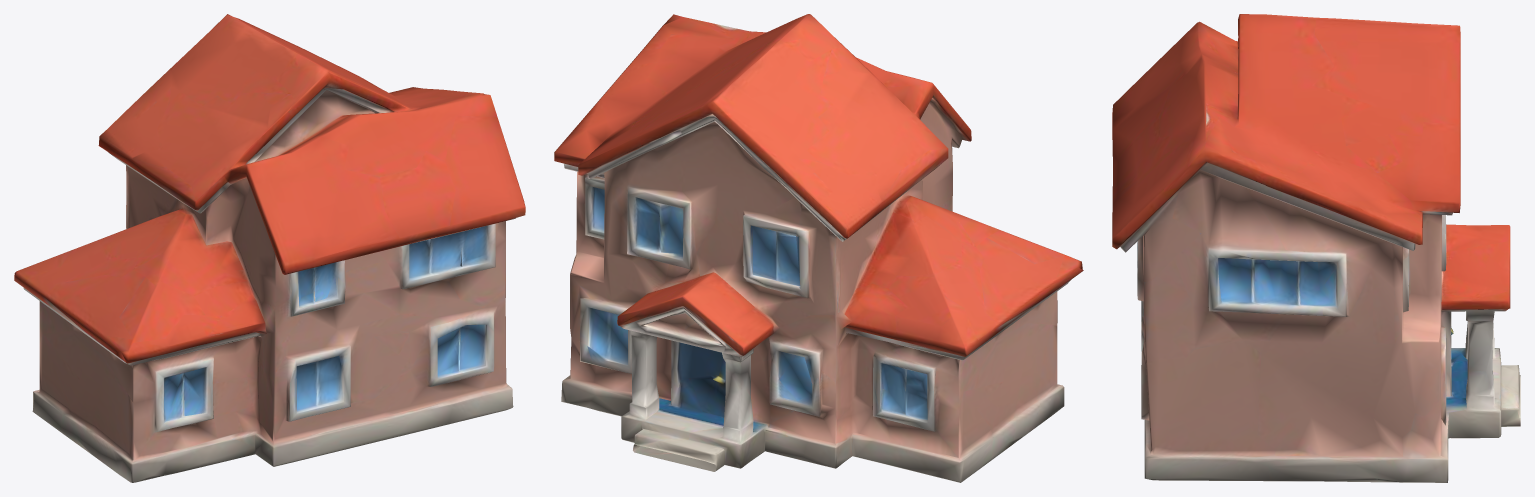
File: casa-n05-92c2d3ab.glb
3 views of the same model, side by side, from view 1: azimuth 30°, elevation 25°; view 2: azimuth 150°, elevation 25°; view 3: azimuth 270°, elevation 25° (orthographic). The views are drawn at different scales.
Parts seen in each view (by area): view 1: casa_n05; view 2: casa_n05; view 3: casa_n05.
Boxes of the visible parts, bbox=[...] form: casa_n05: bbox=[14, 14, 525, 482]; casa_n05: bbox=[554, 14, 1083, 482]; casa_n05: bbox=[1112, 14, 1520, 482].
Bounding box in the file's own units: 11.01 × 9.03 × 8.61.
1 material, 1 textured.
